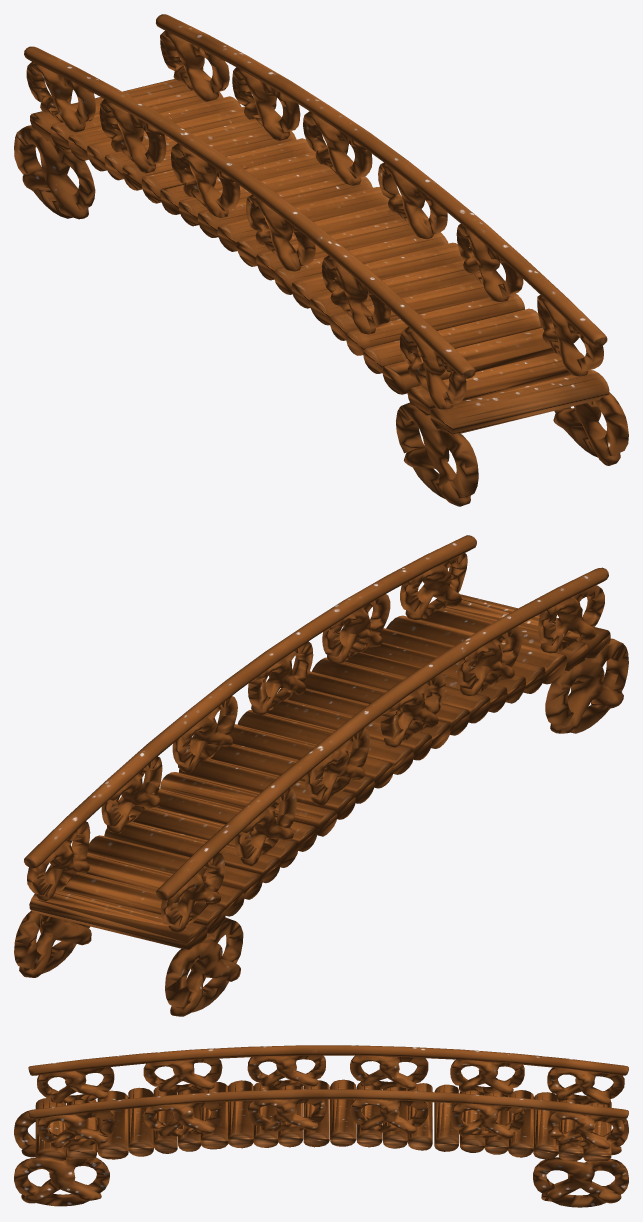
Rendered from pretzel_bridge.glb.
The picture shows the model from 3 angles, top to bottom: view 1: azimuth 30°, elevation 25°; view 2: azimuth 150°, elevation 25°; view 3: azimuth 270°, elevation 25°; orthographic projection. The views are drawn at different scales.
Parts seen in each view (by area): view 1: pretzel_bridge; view 2: pretzel_bridge; view 3: pretzel_bridge.
Boxes of the visible parts, box(x1,y1,x2,y2) form: pretzel_bridge: box(14, 14, 628, 506); pretzel_bridge: box(14, 535, 628, 1016); pretzel_bridge: box(14, 1045, 628, 1207).
Bounding box in the file's own units: 3.6 × 3.3 × 16.
1 material, 1 textured.
